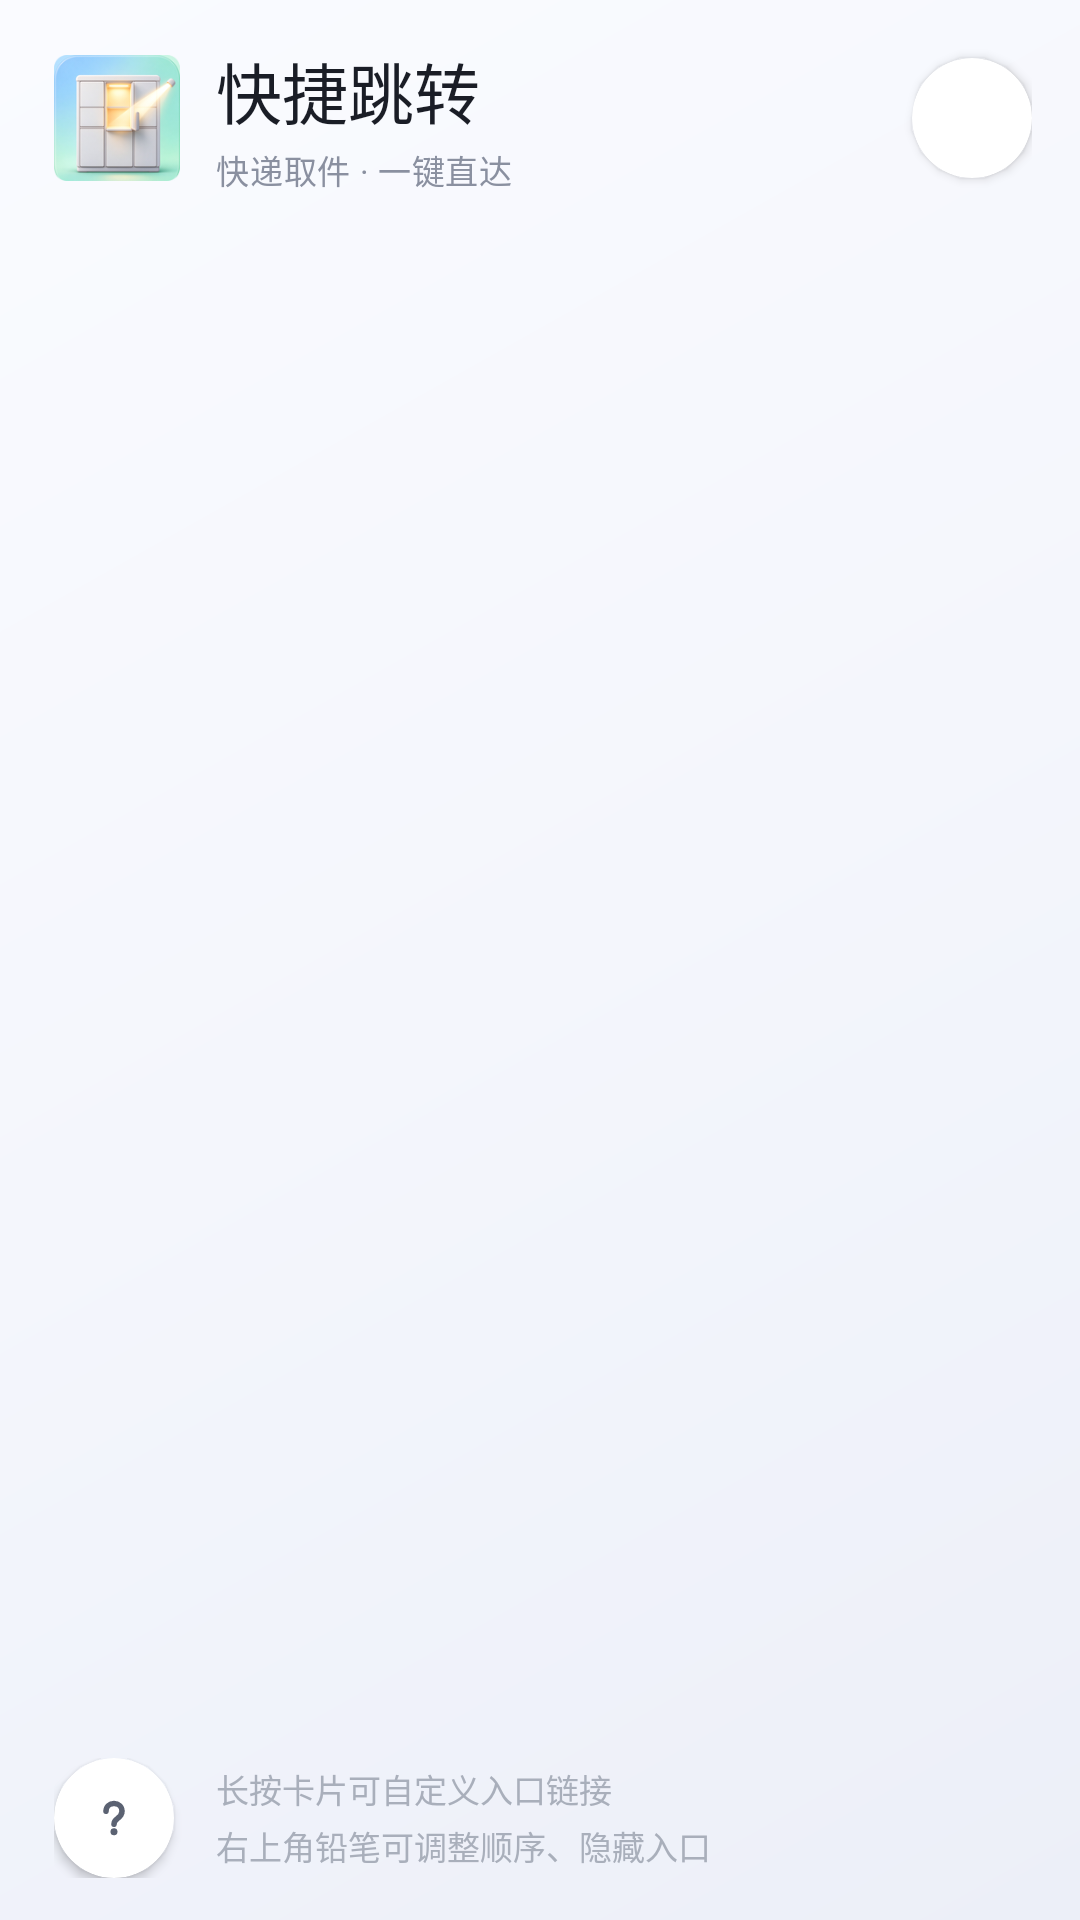

Icon bounding boxes for this 1080*1920 phone screenshot, format region(x1, y1, x2, y2):
关于: region(54, 1758, 174, 1878)
